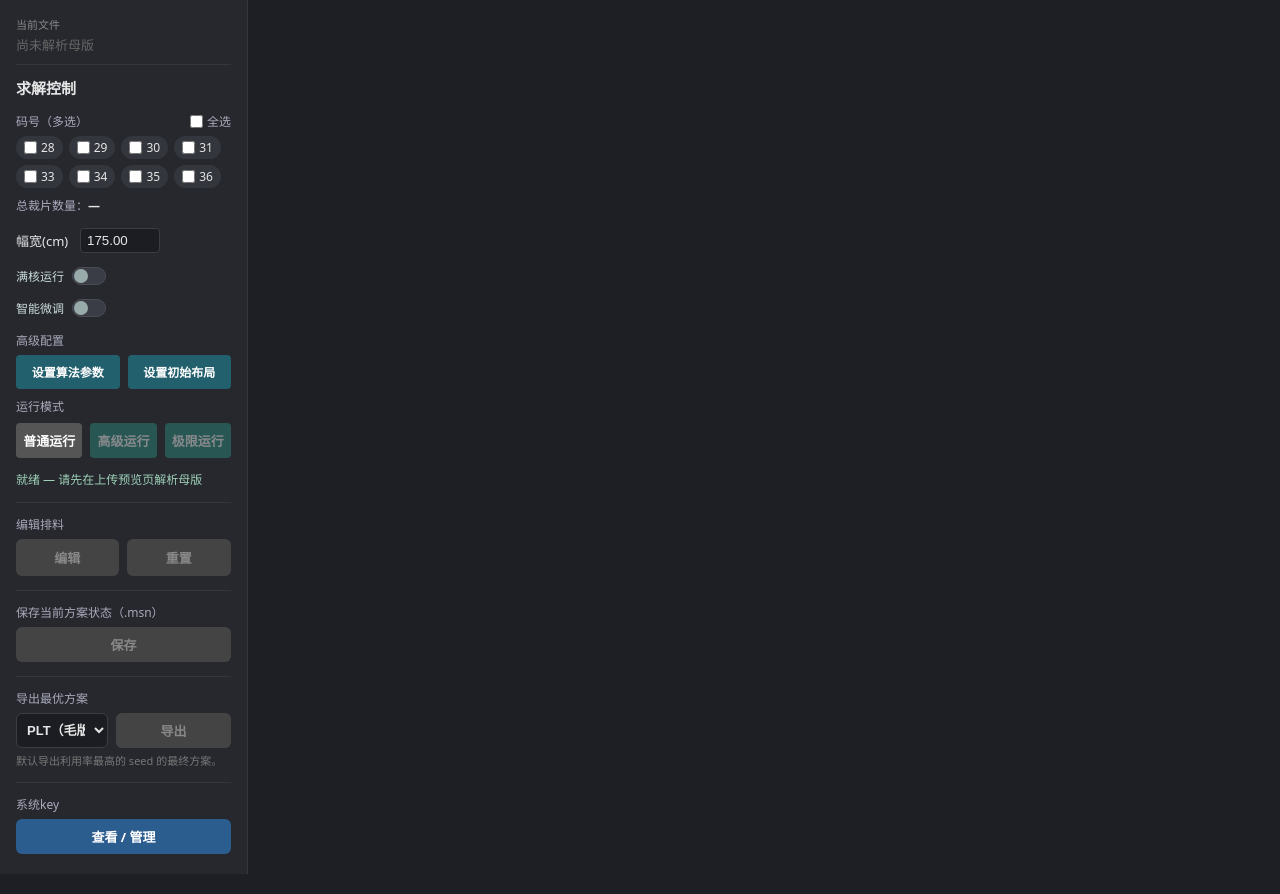
US-027 NestingPage phase 转换 › 3d) running 态冻结参数编辑（SizePicker/ParamForm/PerType 均 disabled；seed 控件 2026-08-22 已隐藏；#time 2026-10-05 入弹窗 → #gate 承载断言）
Expected: the number field with id "gate" is enabled, [80,228,160,253]
Expected: the button "设置算法参数" is enabled, [16,355,120,389]
Step 1. Click the checkbox labelled "28" → (30, 148), box [24,141,37,154]
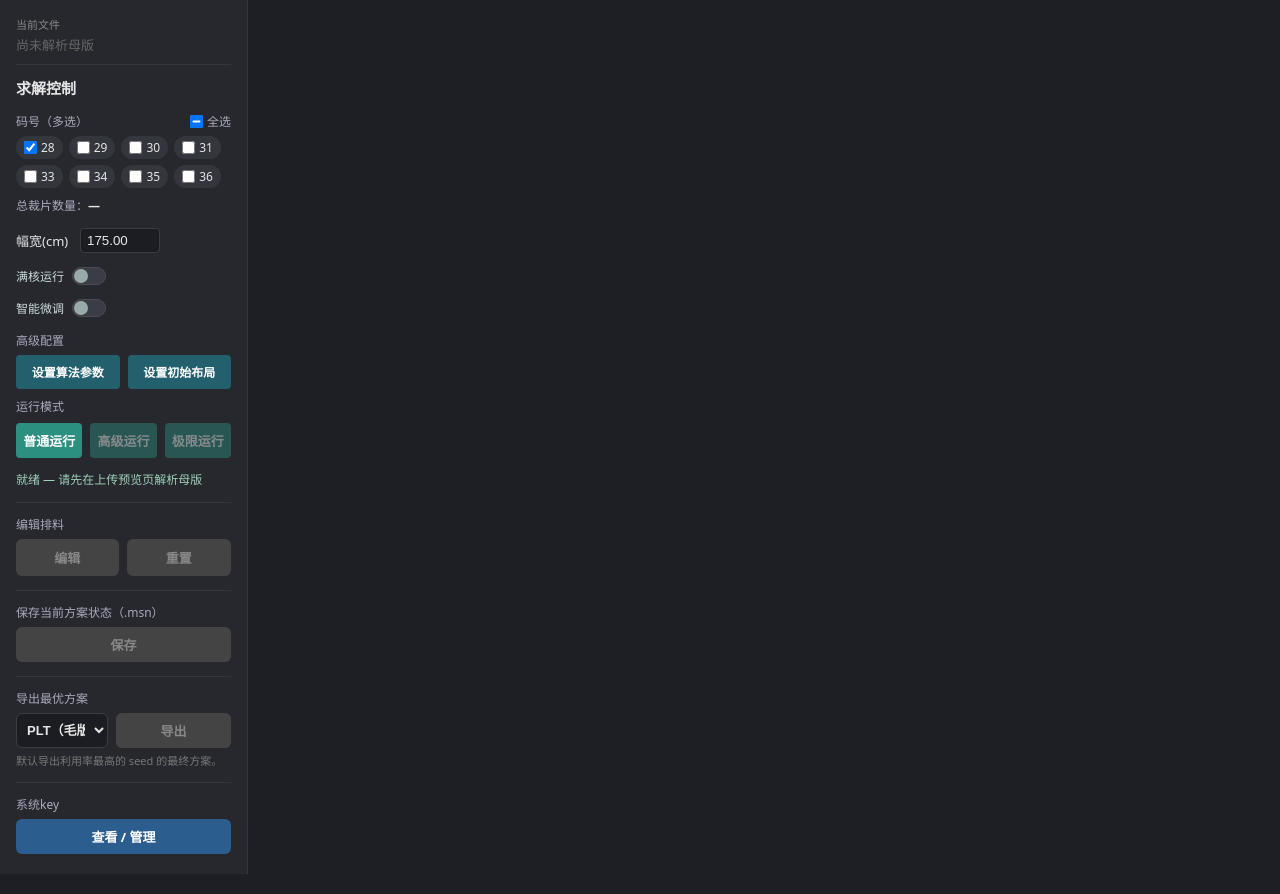
Step 2. Click the button with id "start" → (49, 440), box [16,423,82,458]
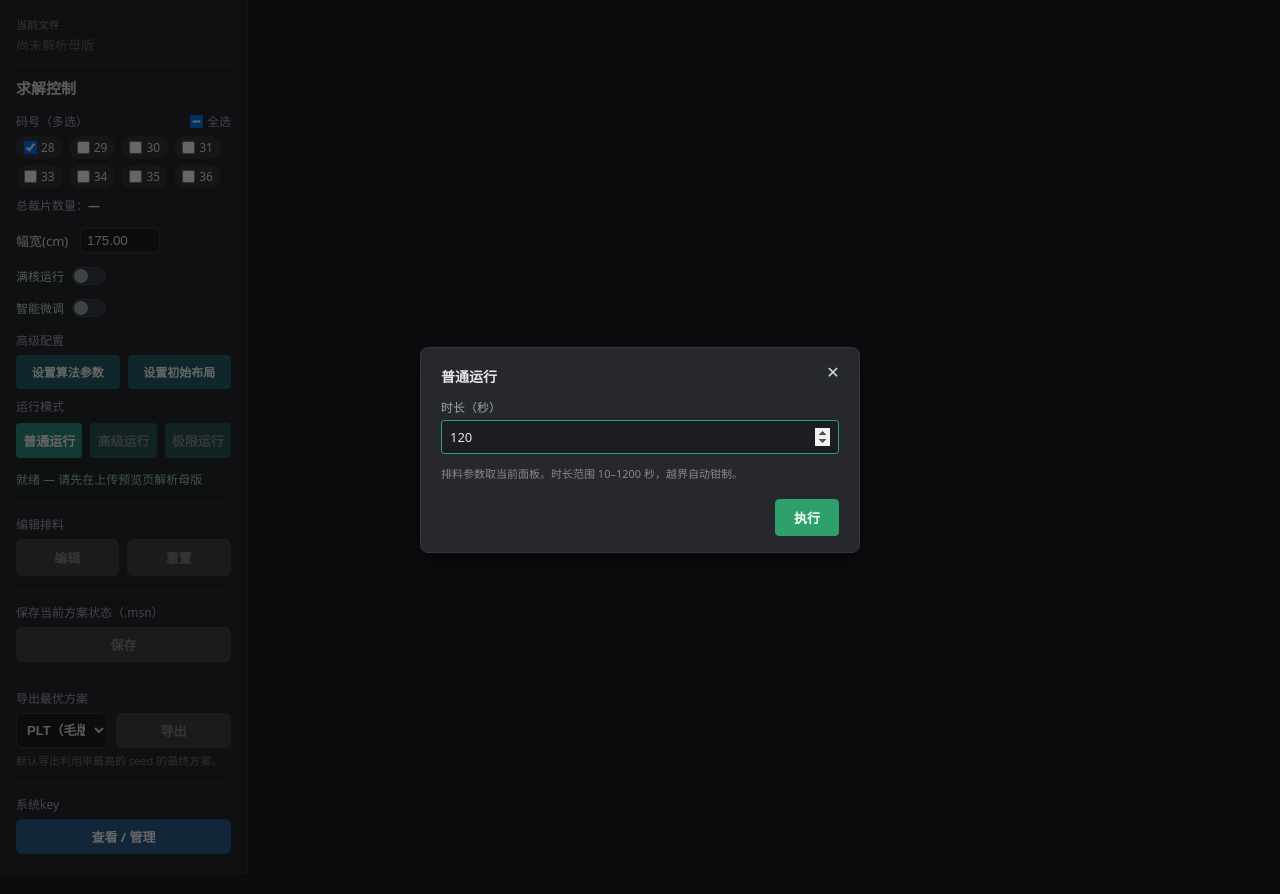
Step 3. Click the button with test id "normal-run-confirm" → (807, 517), box [775,499,839,536]
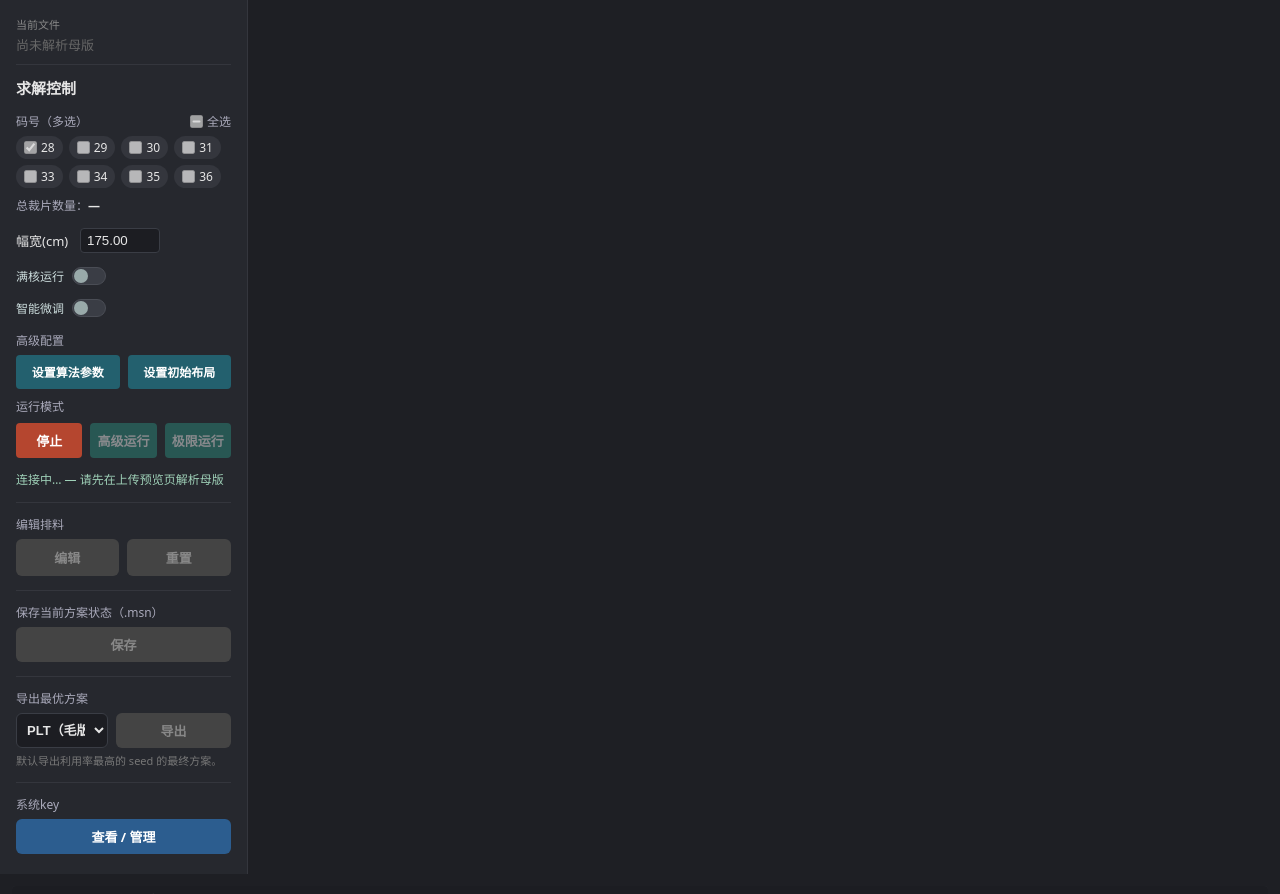
Expected: the number field with id "gate" is disabled, [80,228,160,253]
Expected: the button "设置算法参数" is disabled, [16,355,120,389]
Expected: the checkbox labelled "28" is disabled, [24,141,37,154]
